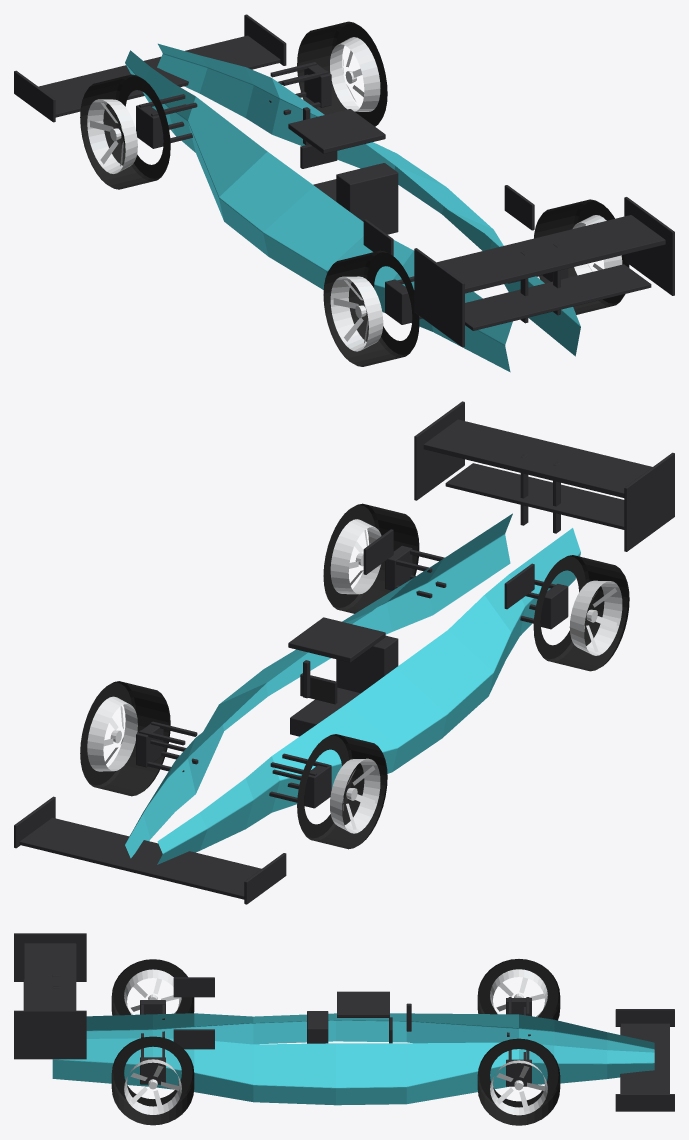
File: Car_Formula_E_Gen3_Evo_future_Complete.glb
The picture shows the model from 3 angles, top to bottom: view 1: azimuth 30°, elevation 25°; view 2: azimuth 150°, elevation 25°; view 3: azimuth 270°, elevation 25°; orthographic projection. The views are drawn at different scales.
Parts seen in each view (by area): view 1: BODY_Formula_Future_Gen3_Monocoque, AERO_Formula_Future_Gen3_F1Wings, WHEEL_RR_Tire, WHEEL_FR_Tire, INTERIOR_F1Seat, WHEEL_FL_Tire, WHEEL_RR_Rim, SAFETY_TitaniumHalo, WHEEL_FR_Rim, WHEEL_FL_Rim, WHEEL_RL_Tire, AERO_Future_ActiveFins (+6 smaller); view 2: BODY_Formula_Future_Gen3_Monocoque, AERO_Formula_Future_Gen3_F1Wings, WHEEL_RR_Tire, WHEEL_FR_Tire, WHEEL_FL_Tire, WHEEL_RL_Tire, INTERIOR_F1Seat, SAFETY_TitaniumHalo, WHEEL_RR_Rim, CHASSIS_SuspensionWishbones, WHEEL_FL_Rim, WHEEL_FR_Rim (+7 smaller); view 3: BODY_Formula_Future_Gen3_Monocoque, AERO_Formula_Future_Gen3_F1Wings, WHEEL_RL_Tire, WHEEL_FL_Tire, WHEEL_FR_Tire, AERO_Future_ActiveFins, SAFETY_TitaniumHalo, WHEEL_RR_Tire, WHEEL_RL_Rim, WHEEL_FL_Rim, WHEEL_FR_Rim, WHEEL_RR_Rim (+6 smaller).
Part boxes in pixels (<box>): BODY_Formula_Future_Gen3_Monocoque: <box>125,43,580,372</box>; AERO_Formula_Future_Gen3_F1Wings: <box>14,14,674,347</box>; WHEEL_RR_Tire: <box>323,250,419,366</box>; WHEEL_FR_Tire: <box>80,74,170,189</box>; INTERIOR_F1Seat: <box>313,163,398,234</box>; WHEEL_FL_Tire: <box>297,21,387,126</box>; WHEEL_RR_Rim: <box>330,276,383,351</box>; SAFETY_TitaniumHalo: <box>288,107,385,153</box>; WHEEL_FR_Rim: <box>87,99,137,173</box>; WHEEL_FL_Rim: <box>330,37,380,111</box>; WHEEL_RL_Tire: <box>534,199,629,314</box>; AERO_Future_ActiveFins: <box>363,185,534,255</box>; BODY_Formula_Future_Gen3_Monocoque: <box>125,513,580,864</box>; AERO_Formula_Future_Gen3_F1Wings: <box>14,401,674,904</box>; WHEEL_RR_Tire: <box>533,555,629,671</box>; WHEEL_FR_Tire: <box>297,734,387,849</box>; WHEEL_FL_Tire: <box>80,681,170,796</box>; WHEEL_RL_Tire: <box>323,503,419,613</box>; INTERIOR_F1Seat: <box>290,635,398,736</box>; SAFETY_TitaniumHalo: <box>288,617,385,698</box>; WHEEL_RR_Rim: <box>569,580,622,655</box>; CHASSIS_SuspensionWishbones: <box>139,549,555,802</box>; WHEEL_FL_Rim: <box>87,696,137,771</box>; WHEEL_FR_Rim: <box>330,758,380,833</box>; BODY_Formula_Future_Gen3_Monocoque: <box>52,1013,654,1105</box>; AERO_Formula_Future_Gen3_F1Wings: <box>14,933,674,1111</box>; WHEEL_RL_Tire: <box>111,1036,194,1125</box>; WHEEL_FL_Tire: <box>477,1038,560,1125</box>; WHEEL_FR_Tire: <box>477,959,560,1020</box>; AERO_Future_ActiveFins: <box>173,977,214,1049</box>; SAFETY_TitaniumHalo: <box>337,991,411,1031</box>; WHEEL_RR_Tire: <box>111,959,194,1015</box>; WHEEL_RL_Rim: <box>124,1059,181,1114</box>; WHEEL_FL_Rim: <box>490,1060,547,1115</box>; WHEEL_FR_Rim: <box>490,969,547,1016</box>; WHEEL_RR_Rim: <box>124,969,181,1014</box>.
Bounding box in the file's own units: 1.88 × 1.01 × 5.6.
